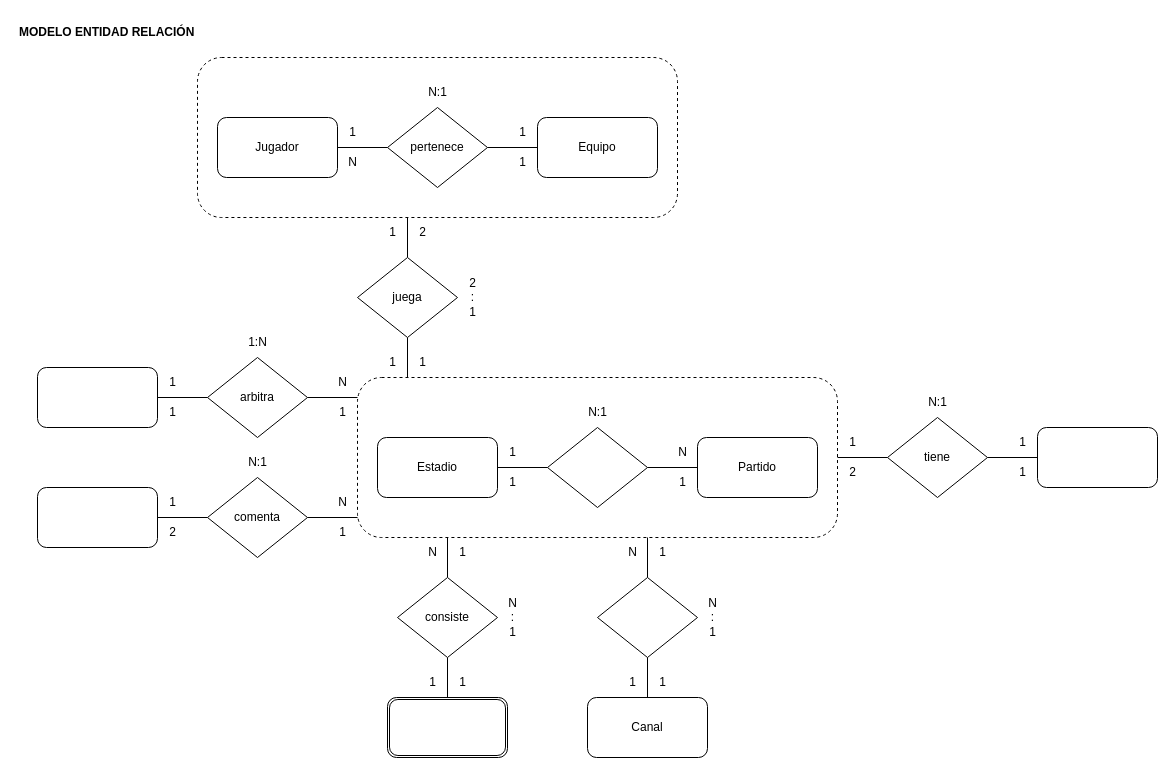
Some shapes in this 1175 by 775 pixel diagram are drawn without their labels. The shapes that lost their labels are listed below. From the top down, each one's centre as x and y in pixels, then its label:
At (x=97, y=397): "Arbitro".
At (x=597, y=467): "alberga".
At (x=1097, y=457): "Comentarios".
At (x=97, y=517): "Usuario".
At (x=647, y=617): "transmite".
At (x=447, y=727): "Torneo".
